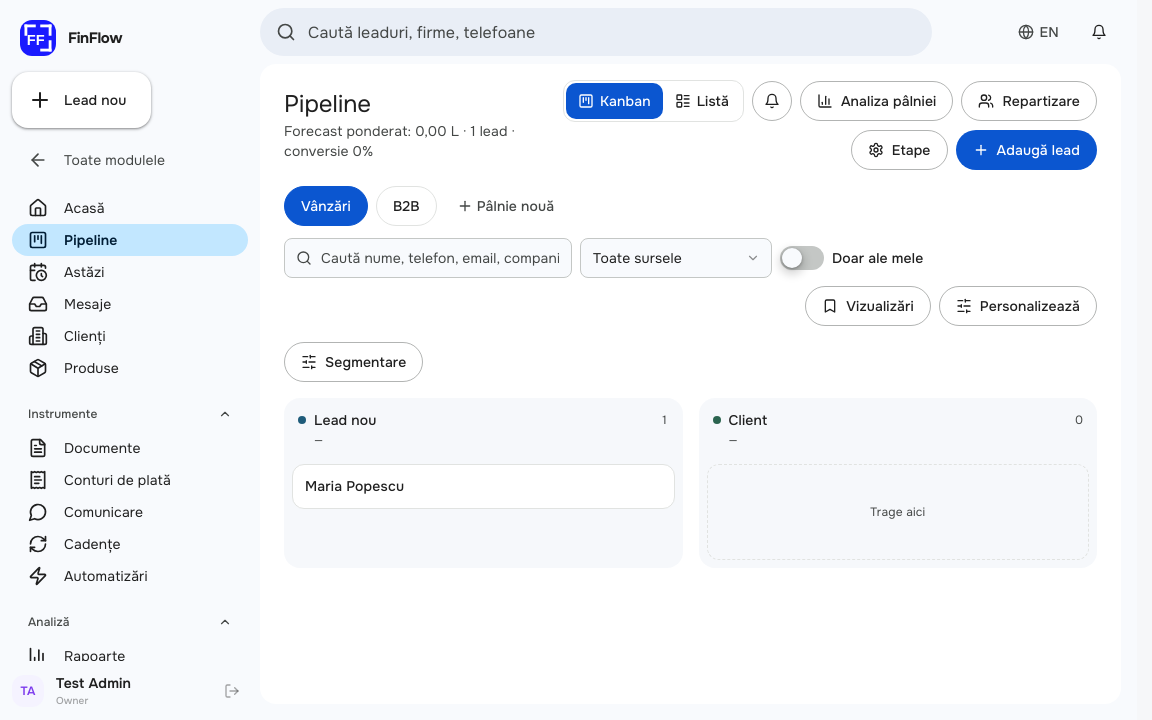
Scenario: Administrarea pâlniilor › [blocant] implicita nu are buton de ștergere, celelalte da
The image size is (1152, 720).
Administrarea pâlniilor se deschide din „Pâlnie nouă", de lângă pastile.
What coordinates should you click on to do the following:
click the button "Pâlnie nouă"
I would click on:
 (506, 206)
Its box is [445, 186, 566, 226].
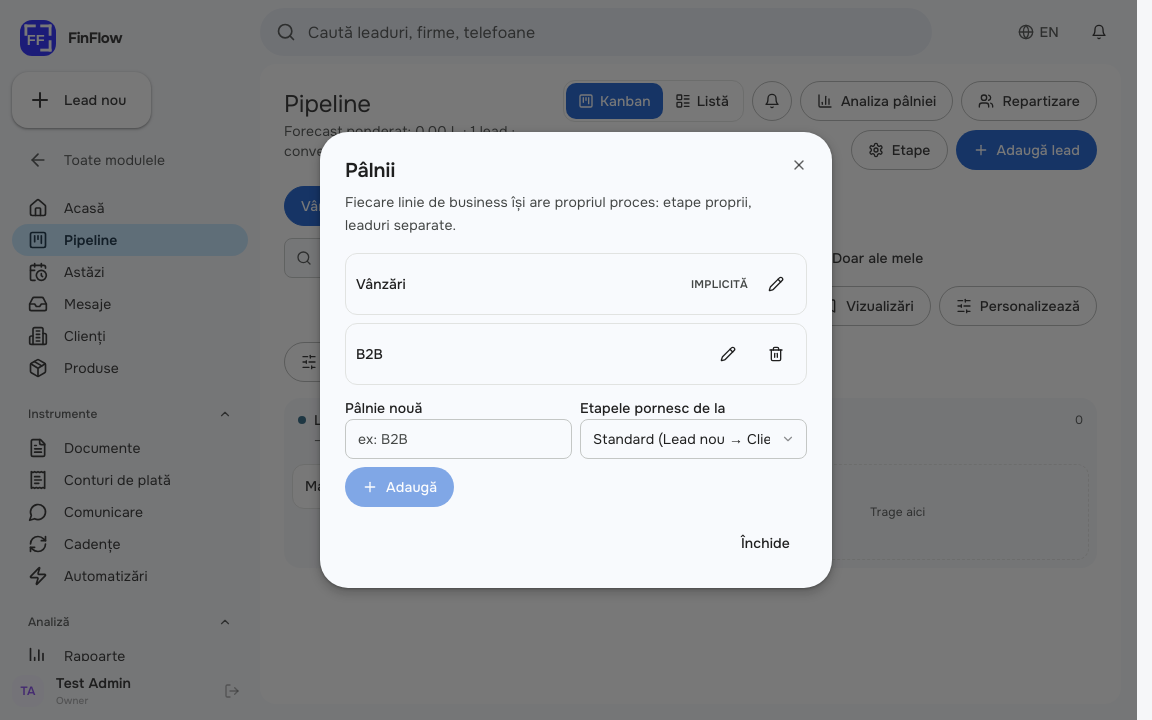
Check: the button named "Șterge pâlnia B2B" is shown, box [756, 334, 796, 374]
